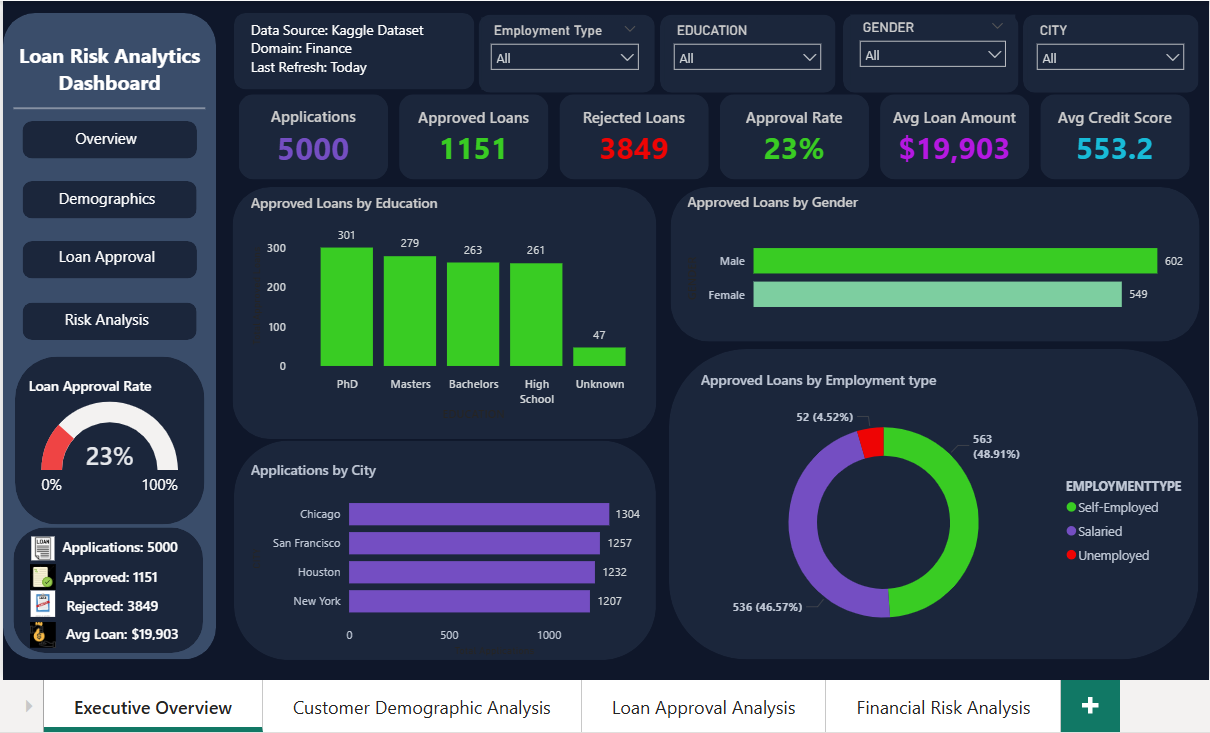

What the dashboard file says about the page in this screenshot:
{"tool":"powerbi","page":{"name":"Executive Overview","canvas":[1280,720],"ordinal":0},"visuals":[{"type":"cardVisual","fields":{"Data":["LOAN_RISK_DATA_CLEAN.Total Applications","LOAN_RISK_DATA_CLEAN.Total Approved Loans","LOAN_RISK_DATA_CLEAN.Total Rejected Loans","LOAN_RISK_DATA_CLEAN.Approval Rate","LOAN_RISK_DATA_CLEAN.Average Loan Amount","LOAN_RISK_DATA_CLEAN.Average Credit Score"]},"box":[245.1,95.2,1022.8,99.2],"z":0},{"type":"shape","box":[243,196.5,449.6,267.3],"z":0,"group":"g1"},{"type":"shape","box":[706.8,202.5,561,160],"z":0,"group":"g2"},{"type":"shape","box":[706.8,368.6,561,330.1],"z":0,"group":"g3"},{"type":"shape","box":[245.1,465.8,447.6,232.9],"z":0,"group":"g4"},{"type":"slicer","fields":{"Values":["LOAN_RISK_DATA_CLEAN.CITY"]},"box":[865.3,12.7,175,81.1],"z":1000},{"type":"barChart","title":"Approved Loans by Gender","fields":{"Category":["LOAN_RISK_DATA_CLEAN.GENDER"],"Y":["LOAN_RISK_DATA_CLEAN.Total Approved Loans"]},"box":[735.2,202.5,532.7,155.9],"z":1000,"group":"g2"},{"type":"columnChart","title":"Approved Loans by Education","fields":{"Category":["LOAN_RISK_DATA_CLEAN.EDUCATION"],"Y":["LOAN_RISK_DATA_CLEAN.Total Approved Loans"]},"box":[257.2,202.6,435.4,247.1],"z":1000,"group":"g1"},{"type":"donutChart","title":"Approved Loans by Employment type","fields":{"Category":["LOAN_RISK_DATA_CLEAN.EMPLOYMENTTYPE"],"Y":["LOAN_RISK_DATA_CLEAN.Total Approved Loans"]},"box":[735.2,391.3,532.7,305.4],"z":1000,"group":"g3"},{"type":"barChart","title":"Applications by City","fields":{"Category":["LOAN_RISK_DATA_CLEAN.CITY"],"Y":["LOAN_RISK_DATA_CLEAN.Total Applications"]},"box":[257.3,486.1,435.4,212.7],"z":1000,"group":"g4"},{"type":"slicer","fields":{"Values":["LOAN_RISK_DATA_CLEAN.GENDER"]},"box":[664.9,14.3,175,81.1],"z":2000},{"type":"slicer","fields":{"Values":["LOAN_RISK_DATA_CLEAN.EDUCATION"]},"box":[464.5,12.7,175,81.1],"z":3000},{"type":"slicer","fields":{"Values":["LOAN_RISK_DATA_CLEAN.EMPLOYMENTTYPE"]},"box":[257.7,12.7,175,81.1],"z":4000},{"type":"shape","box":[0,14.3,225.9,685.6],"z":5000},{"type":"group","id":"g1","title":"Group 1","box":[243,196.5,449.6,267.3],"z":6000},{"type":"group","id":"g2","title":"Group 2","box":[706.8,202.5,561,160],"z":7000},{"type":"group","id":"g3","title":"Group 3","box":[706.8,368.6,561,330.1],"z":8000},{"type":"group","id":"g4","title":"Group 4","box":[245.1,465.8,447.6,232.9],"z":9000}]}

Visuals, with their boxes on the page's 1280x720 design canvas (x1, y1, x2, y2). These are canvas units, not pixel positions in the 1210x733 screenshot, which may show the page scaled, cropped or inside an application window:
cardVisual - LOAN_RISK_DATA_CLEAN.Total Applications x LOAN_RISK_DATA_CLEAN.Total Approved Loans: l=245, t=95, r=1268, b=194
shape: l=243, t=196, r=693, b=464
shape: l=707, t=202, r=1268, b=362
shape: l=707, t=369, r=1268, b=699
shape: l=245, t=466, r=693, b=699
slicer - LOAN_RISK_DATA_CLEAN.CITY: l=865, t=13, r=1040, b=94
"Approved Loans by Gender" barChart: l=735, t=202, r=1268, b=358
"Approved Loans by Education" columnChart: l=257, t=203, r=693, b=450
"Approved Loans by Employment type" donutChart: l=735, t=391, r=1268, b=697
"Applications by City" barChart: l=257, t=486, r=693, b=699
slicer - LOAN_RISK_DATA_CLEAN.GENDER: l=665, t=14, r=840, b=95
slicer - LOAN_RISK_DATA_CLEAN.EDUCATION: l=464, t=13, r=640, b=94
slicer - LOAN_RISK_DATA_CLEAN.EMPLOYMENTTYPE: l=258, t=13, r=433, b=94
shape: l=0, t=14, r=226, b=700
"Group 1" group: l=243, t=196, r=693, b=464
"Group 2" group: l=707, t=202, r=1268, b=362
"Group 3" group: l=707, t=369, r=1268, b=699
"Group 4" group: l=245, t=466, r=693, b=699
